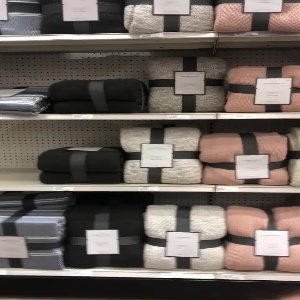void: (1, 122, 38, 182)
